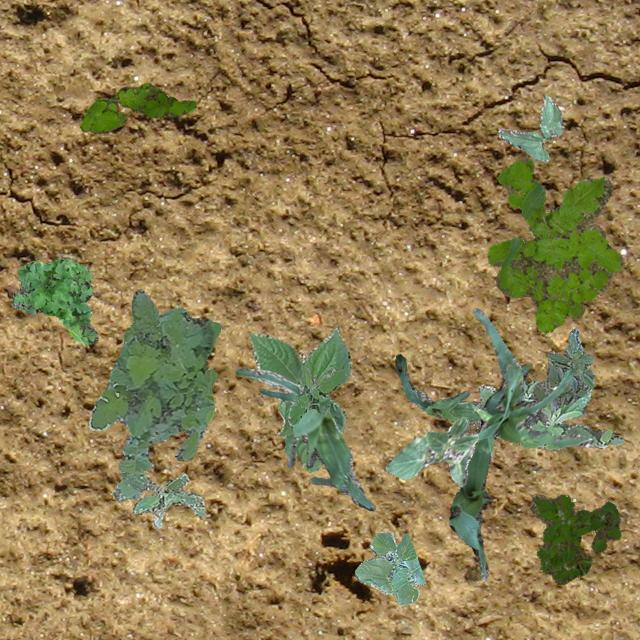crop: (234, 368, 374, 510), (448, 363, 528, 580), (470, 306, 592, 446), (248, 328, 350, 472), (384, 416, 478, 486), (394, 352, 484, 420), (354, 530, 424, 604), (497, 94, 562, 162)
weed: (88, 288, 220, 500), (487, 158, 622, 332), (470, 380, 622, 450), (528, 494, 620, 584), (10, 258, 96, 344), (78, 81, 195, 132), (530, 328, 594, 412), (120, 472, 204, 528), (288, 366, 344, 424)
